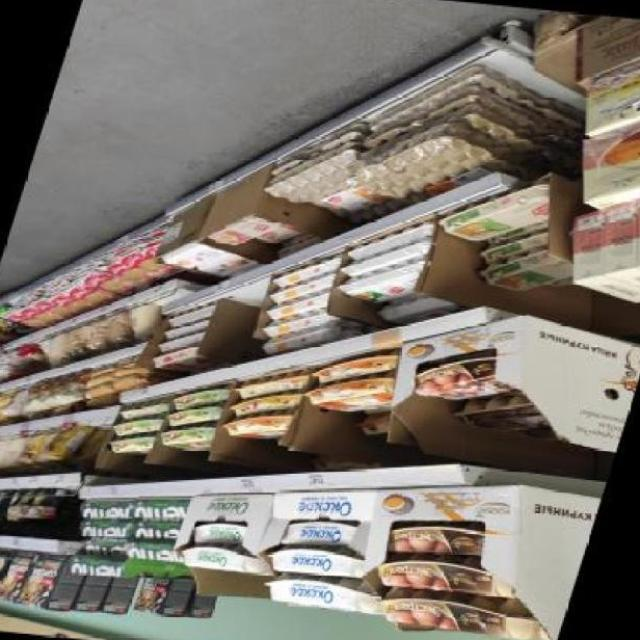Egg: (368, 584, 568, 640), (369, 549, 526, 599), (258, 572, 391, 617), (263, 541, 371, 579), (178, 541, 265, 575), (283, 515, 359, 550), (189, 518, 250, 548)
